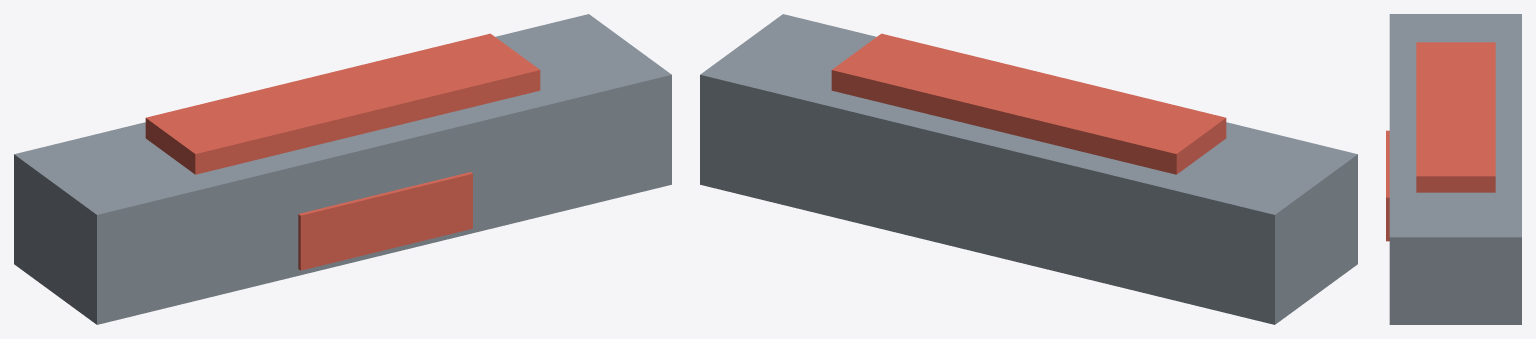
The model's file is SM_Soviet_SU_MorokSubmarine_Blockout.fbx.
3 renders of one model, left to right at view 1: azimuth 30°, elevation 25°; view 2: azimuth 150°, elevation 25°; view 3: azimuth 270°, elevation 25°, orthographic. The views are drawn at different scales.
Visible parts, largest first — view 1: MainBuilding, RoofStructure, EntranceGate; view 2: MainBuilding, RoofStructure; view 3: MainBuilding, RoofStructure, EntranceGate.
Boxes of the visible parts, x1,y1,x2,y2 form: MainBuilding: [14, 14, 671, 324]; RoofStructure: [145, 33, 540, 174]; EntranceGate: [298, 172, 472, 270]; MainBuilding: [700, 14, 1357, 324]; RoofStructure: [831, 33, 1226, 174]; MainBuilding: [1389, 14, 1521, 324]; RoofStructure: [1416, 42, 1495, 192]; EntranceGate: [1386, 130, 1389, 241].
Bounding box in the file's own units: 1400 × 304 × 360.
